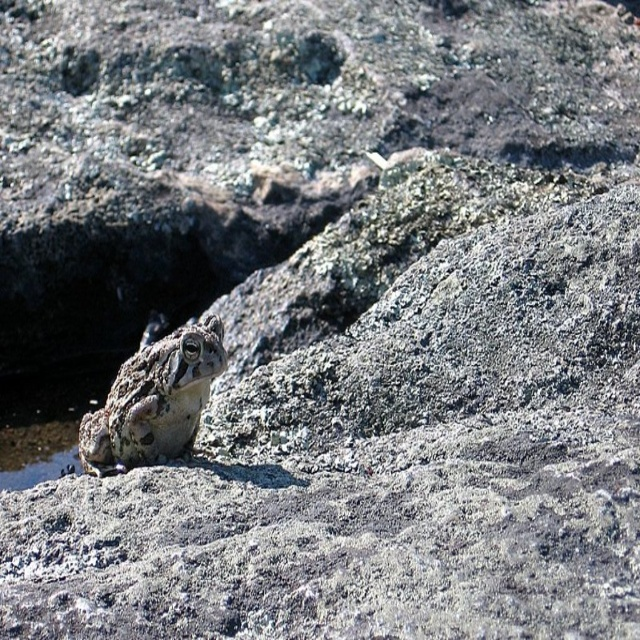Frog: (77, 310, 231, 479)
